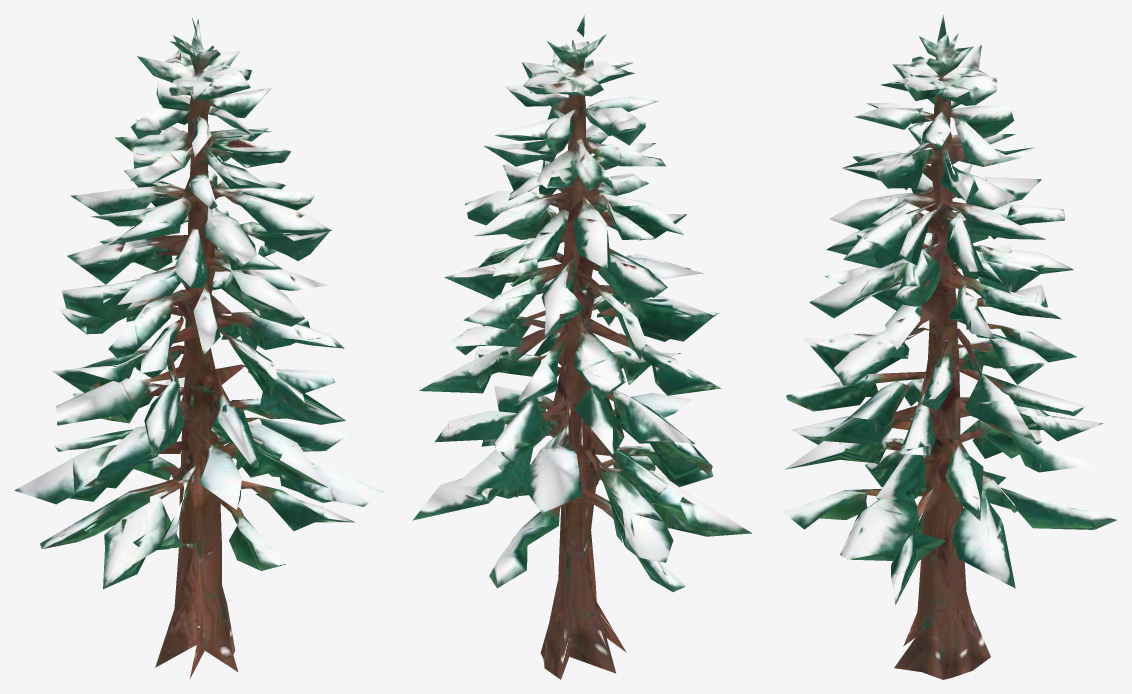
Rendered from pine_snow.glb.
3 views of the same model, side by side, from view 1: azimuth 30°, elevation 25°; view 2: azimuth 150°, elevation 25°; view 3: azimuth 270°, elevation 25° (orthographic).
Parts seen in each view (by area): view 1: 0; view 2: 0; view 3: 0.
Part boxes in pixels (x1,y1,x2,y2): 0: (14,15,383,679); 0: (412,14,751,679); 0: (781,15,1116,679).
Bounding box in the file's own units: 0.7985 × 1.81 × 0.8532.
1 material, 1 textured.
